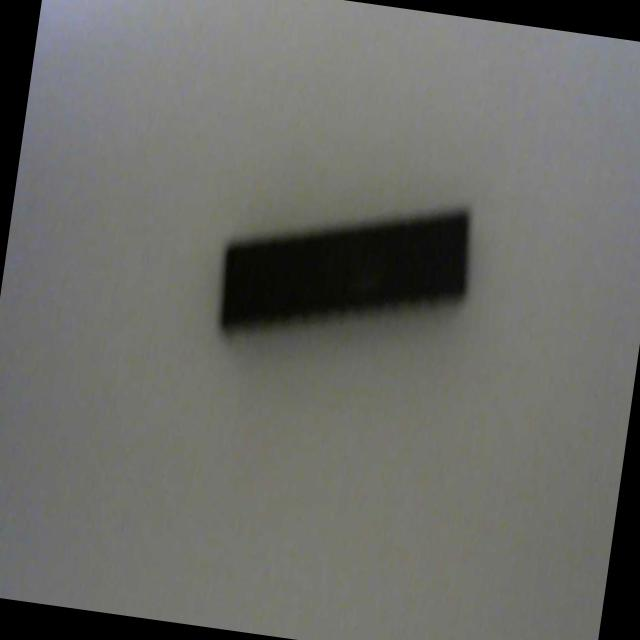atmega: (210, 170, 480, 370)
